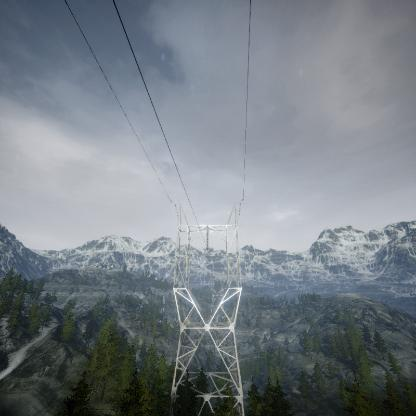tower: (165, 198, 253, 416)
